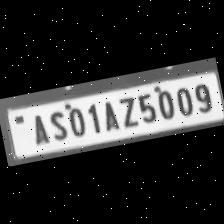0: (64, 103, 90, 139), (170, 82, 196, 118), (153, 86, 178, 122)
1: (82, 100, 103, 136)
5: (134, 89, 158, 126)
9: (189, 78, 216, 114)
A: (25, 110, 51, 146), (96, 96, 121, 133)
S: (44, 106, 71, 142)
Z: (114, 93, 138, 130)
